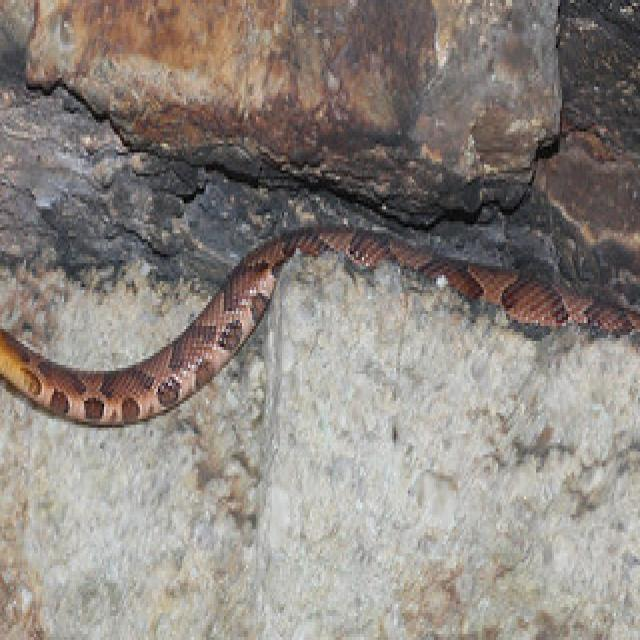Snake: (0, 218, 640, 428)
